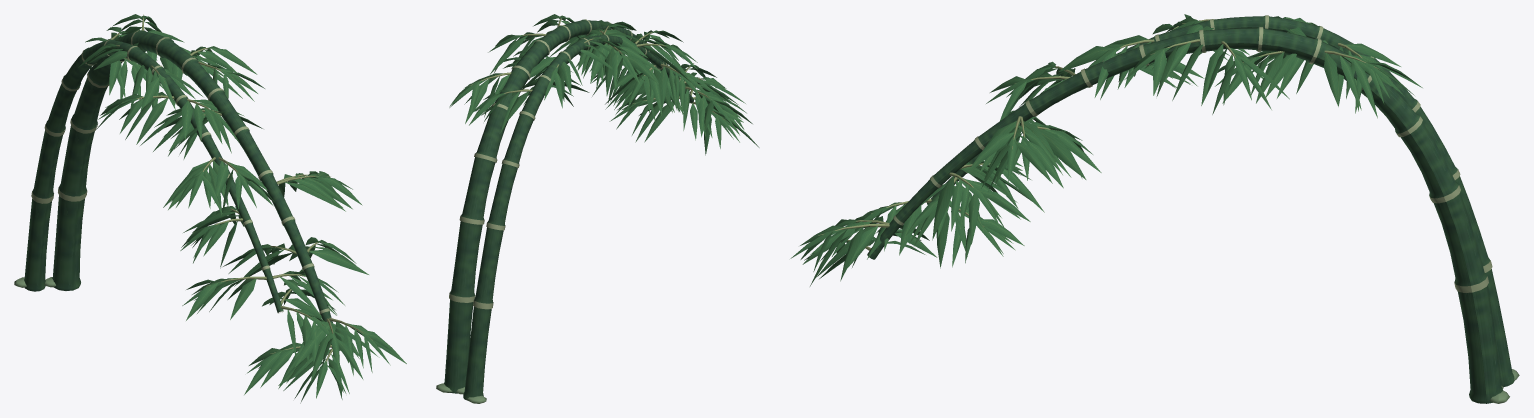
Rendered from nyanisyarud-bamboo-bent.glb.
3 renders of one model, left to right at view 1: azimuth 30°, elevation 25°; view 2: azimuth 150°, elevation 25°; view 3: azimuth 270°, elevation 25°, orthographic. The views are drawn at different scales.
Parts seen in each view (by area): view 1: Silken bamboo leaves, Jade bamboo, Raised bamboo nodes, Branches; view 2: Jade bamboo, Silken bamboo leaves, Raised bamboo nodes, Branches; view 3: Silken bamboo leaves, Jade bamboo, Raised bamboo nodes, Branches.
Boxes of the visible parts, <box> form: Silken bamboo leaves: <box>78,14,406,403</box>; Jade bamboo: <box>24,30,340,350</box>; Raised bamboo nodes: <box>31,30,329,314</box>; Branches: <box>110,14,372,361</box>; Jade bamboo: <box>444,19,693,400</box>; Silken bamboo leaves: <box>449,14,759,155</box>; Raised bamboo nodes: <box>449,19,680,309</box>; Branches: <box>469,15,724,119</box>; Silken bamboo leaves: <box>790,14,1422,286</box>; Jade bamboo: <box>867,16,1514,403</box>; Raised bamboo nodes: <box>893,15,1492,292</box>; Branches: <box>818,19,1379,250</box>.
Size of the model in its own units: 2.42 by 3.86 by 6.88.
Materials: 6 (2 with a texture image).
